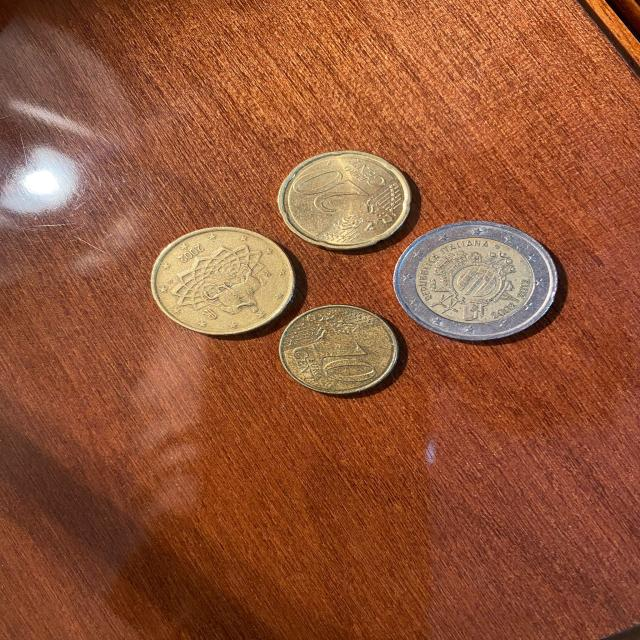10c: (278, 304, 404, 397)
20c: (277, 150, 418, 251)
50c: (150, 225, 300, 338)
5c: (390, 218, 562, 344)
